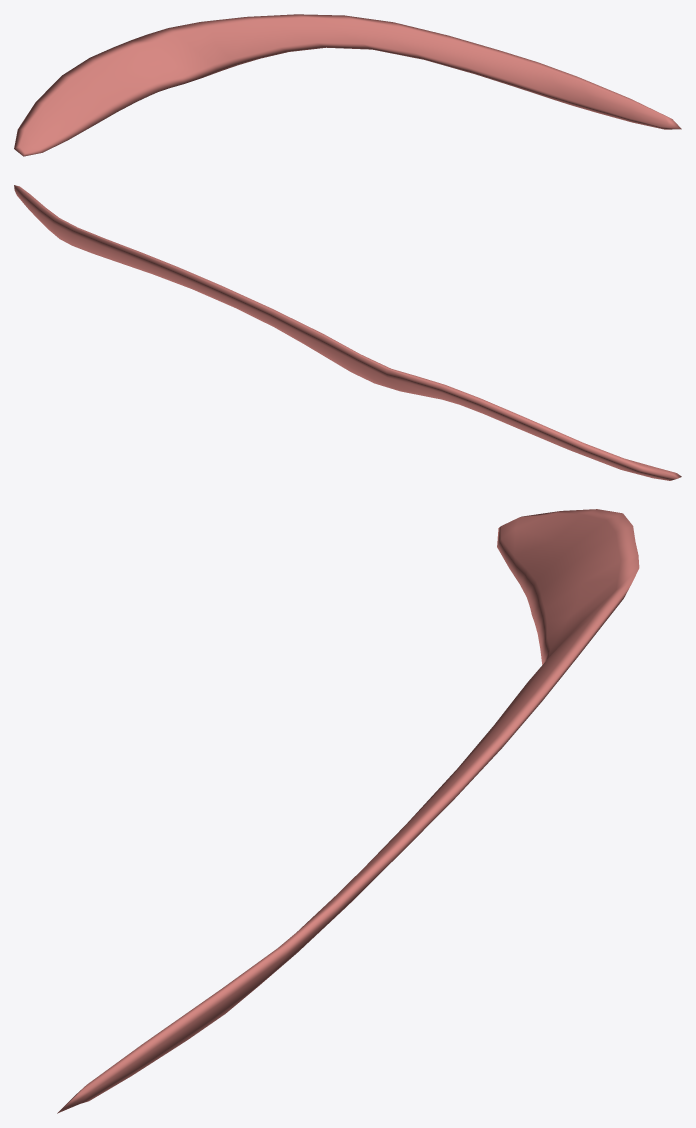
3 renders of one model, top to bottom at view 1: azimuth 30°, elevation 25°; view 2: azimuth 150°, elevation 25°; view 3: azimuth 270°, elevation 25°, orthographic. The views are drawn at different scales.
Parts seen in each view (by area): view 1: ZA_53c273eb45b6ba70; view 2: ZA_53c273eb45b6ba70; view 3: ZA_53c273eb45b6ba70.
Part boxes in pixels (x1,y1,x2,y2): ZA_53c273eb45b6ba70: [14, 14, 681, 156]; ZA_53c273eb45b6ba70: [14, 185, 681, 480]; ZA_53c273eb45b6ba70: [57, 509, 639, 1113].
Bounding box in the file's own units: 0.0371 × 0.00582 × 0.017.
